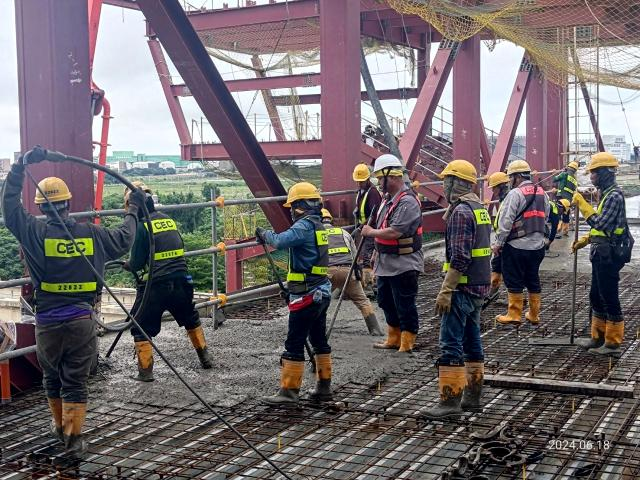helmet: (440, 158, 482, 184), (34, 176, 72, 204), (278, 182, 324, 204), (119, 175, 148, 209), (372, 152, 402, 176), (592, 149, 618, 172), (508, 156, 534, 176), (348, 164, 372, 184), (487, 171, 509, 189), (320, 208, 332, 220), (568, 162, 580, 172)
vest: (34, 220, 102, 302), (134, 217, 190, 280), (446, 204, 490, 284), (374, 192, 422, 253), (292, 222, 330, 288), (508, 186, 546, 237), (590, 190, 624, 240), (353, 188, 375, 226), (332, 228, 348, 264), (562, 175, 580, 201), (492, 201, 506, 233)
